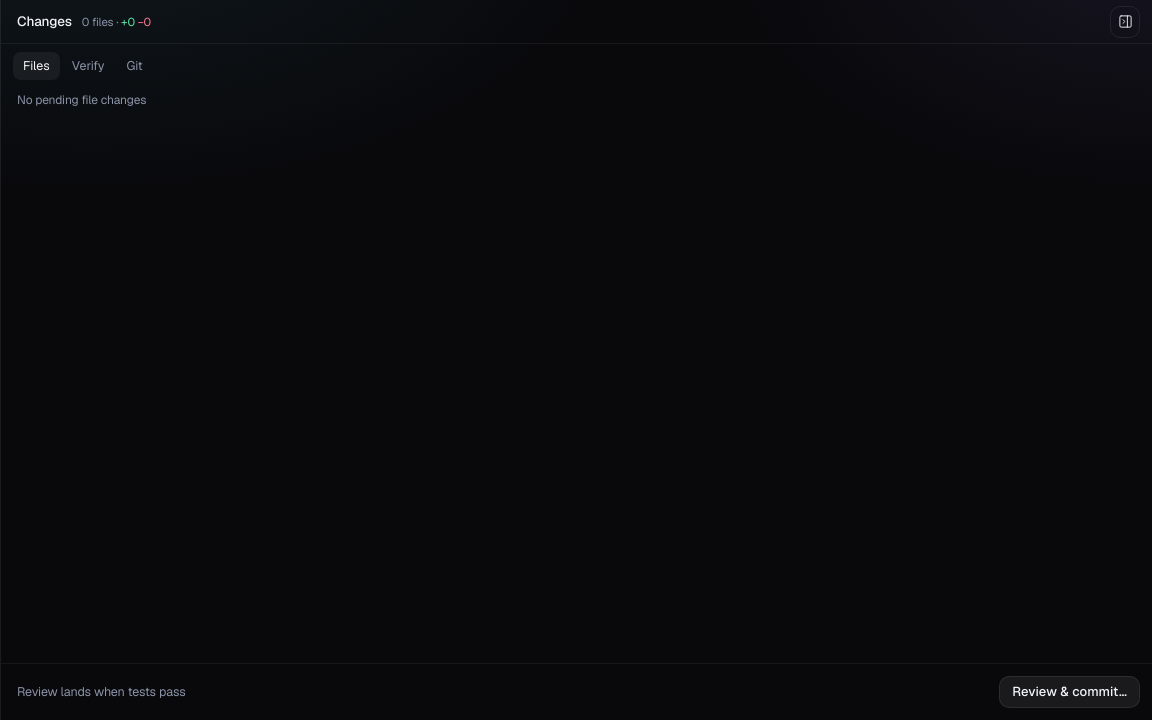
ChangesDock — Git row › shows Not run / Running / Failed chrome from activity status and lifecycle
Click the tab "Git" at x=134, y=66, box [116, 52, 153, 80]
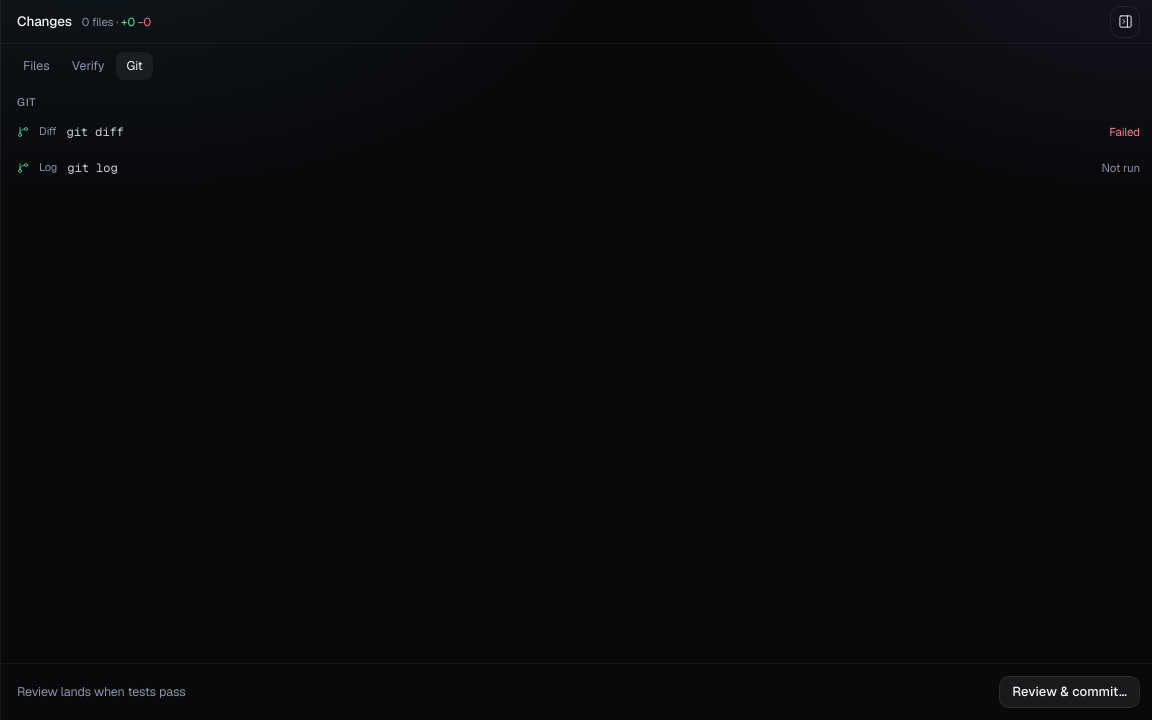
expect the text "Failed" is shown: met, box [1109, 123, 1140, 140]
expect the text "Not run" is shown: met, box [1102, 159, 1140, 176]
